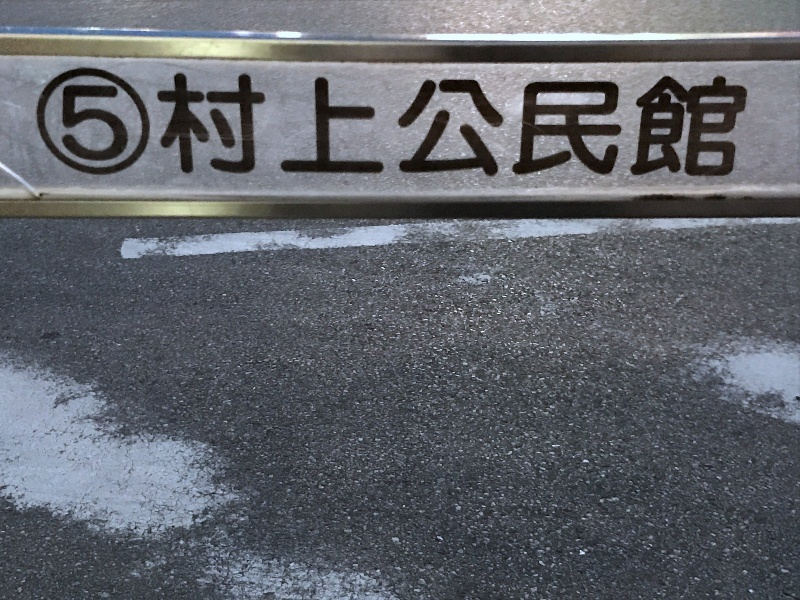text: (65, 74, 80, 184), (81, 74, 96, 184), (97, 74, 112, 184), (113, 74, 128, 184), (129, 74, 144, 184), (145, 74, 160, 184), (161, 74, 176, 184), (177, 74, 192, 184), (193, 74, 208, 184), (209, 74, 224, 184), (225, 74, 240, 184), (241, 74, 256, 184), (257, 74, 272, 184), (273, 74, 288, 184), (289, 74, 304, 184), (305, 74, 320, 184), (321, 74, 336, 184), (337, 74, 352, 184), (353, 74, 368, 184), (369, 74, 384, 184), (385, 74, 400, 184), (401, 74, 416, 184), (417, 74, 432, 184), (433, 74, 448, 184), (449, 74, 464, 184), (465, 74, 480, 184), (481, 74, 496, 184), (497, 74, 512, 184), (513, 74, 528, 184), (529, 74, 544, 184), (545, 74, 560, 184), (561, 74, 576, 184), (577, 74, 592, 184), (593, 74, 608, 184), (609, 74, 624, 184), (625, 74, 640, 184), (641, 74, 656, 184), (657, 74, 672, 184), (673, 74, 688, 184), (689, 74, 704, 184), (705, 74, 720, 184), (721, 74, 736, 184), (737, 74, 752, 184), (54, 74, 64, 184), (753, 74, 756, 184)
